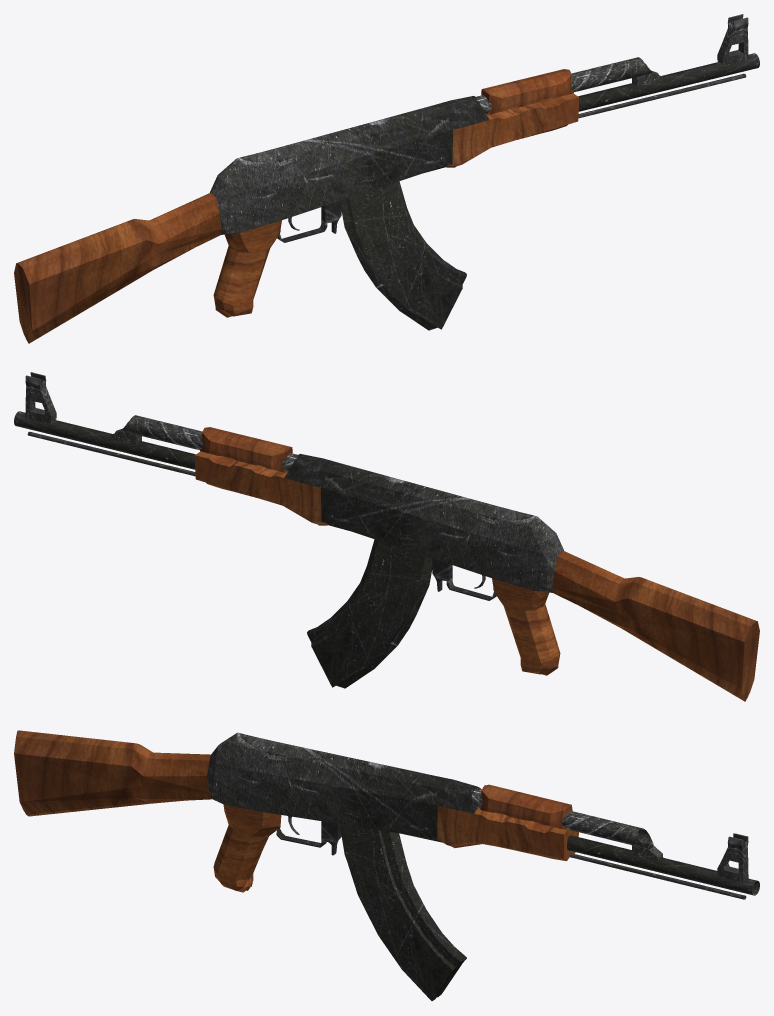
The picture shows the model from 3 angles, top to bottom: view 1: azimuth 30°, elevation 25°; view 2: azimuth 150°, elevation 25°; view 3: azimuth 330°, elevation 25°; orthographic projection.
Parts seen in each view (by area): view 1: Ak47; view 2: Ak47; view 3: Ak47.
Boxes of the visible parts, x1,y1,x2,y2 form: Ak47: (14, 14, 759, 343); Ak47: (14, 372, 759, 701); Ak47: (14, 730, 759, 1000).
Bounding box in the file's own units: 27.49 × 8.44 × 1.08.
1 material, 1 textured.
